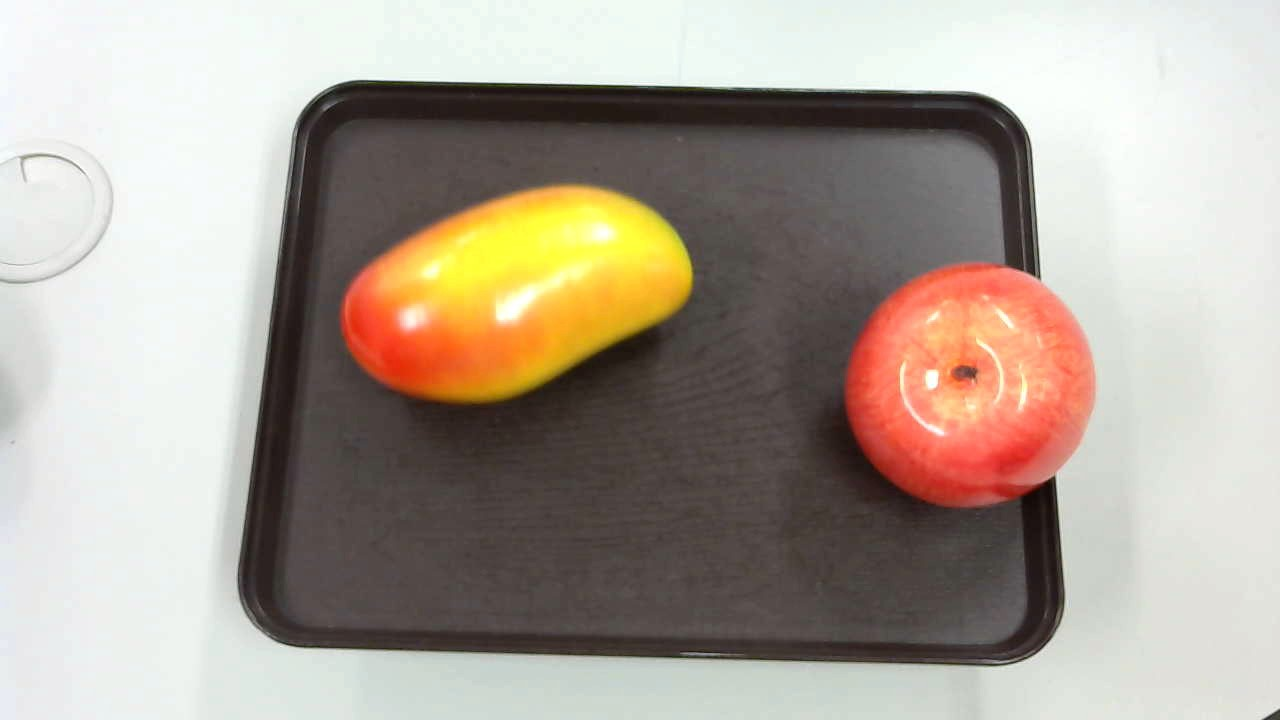red apple: (843, 264, 1097, 512)
red mango: (331, 185, 692, 403)
